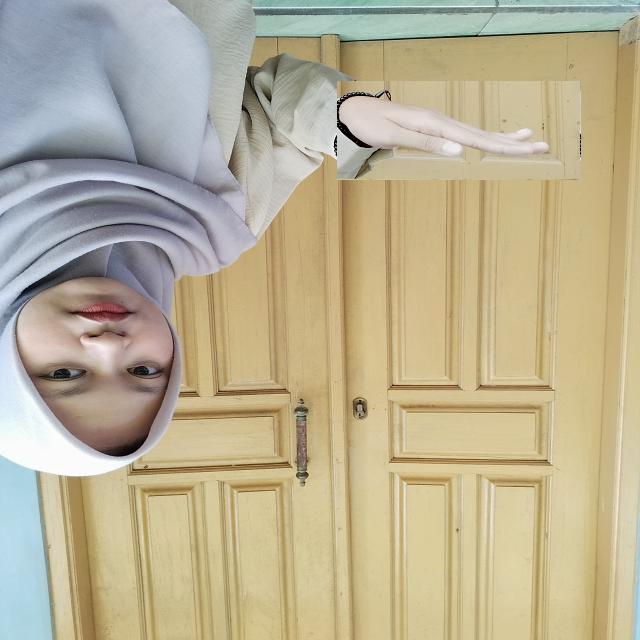adik: (337, 81, 581, 180)
